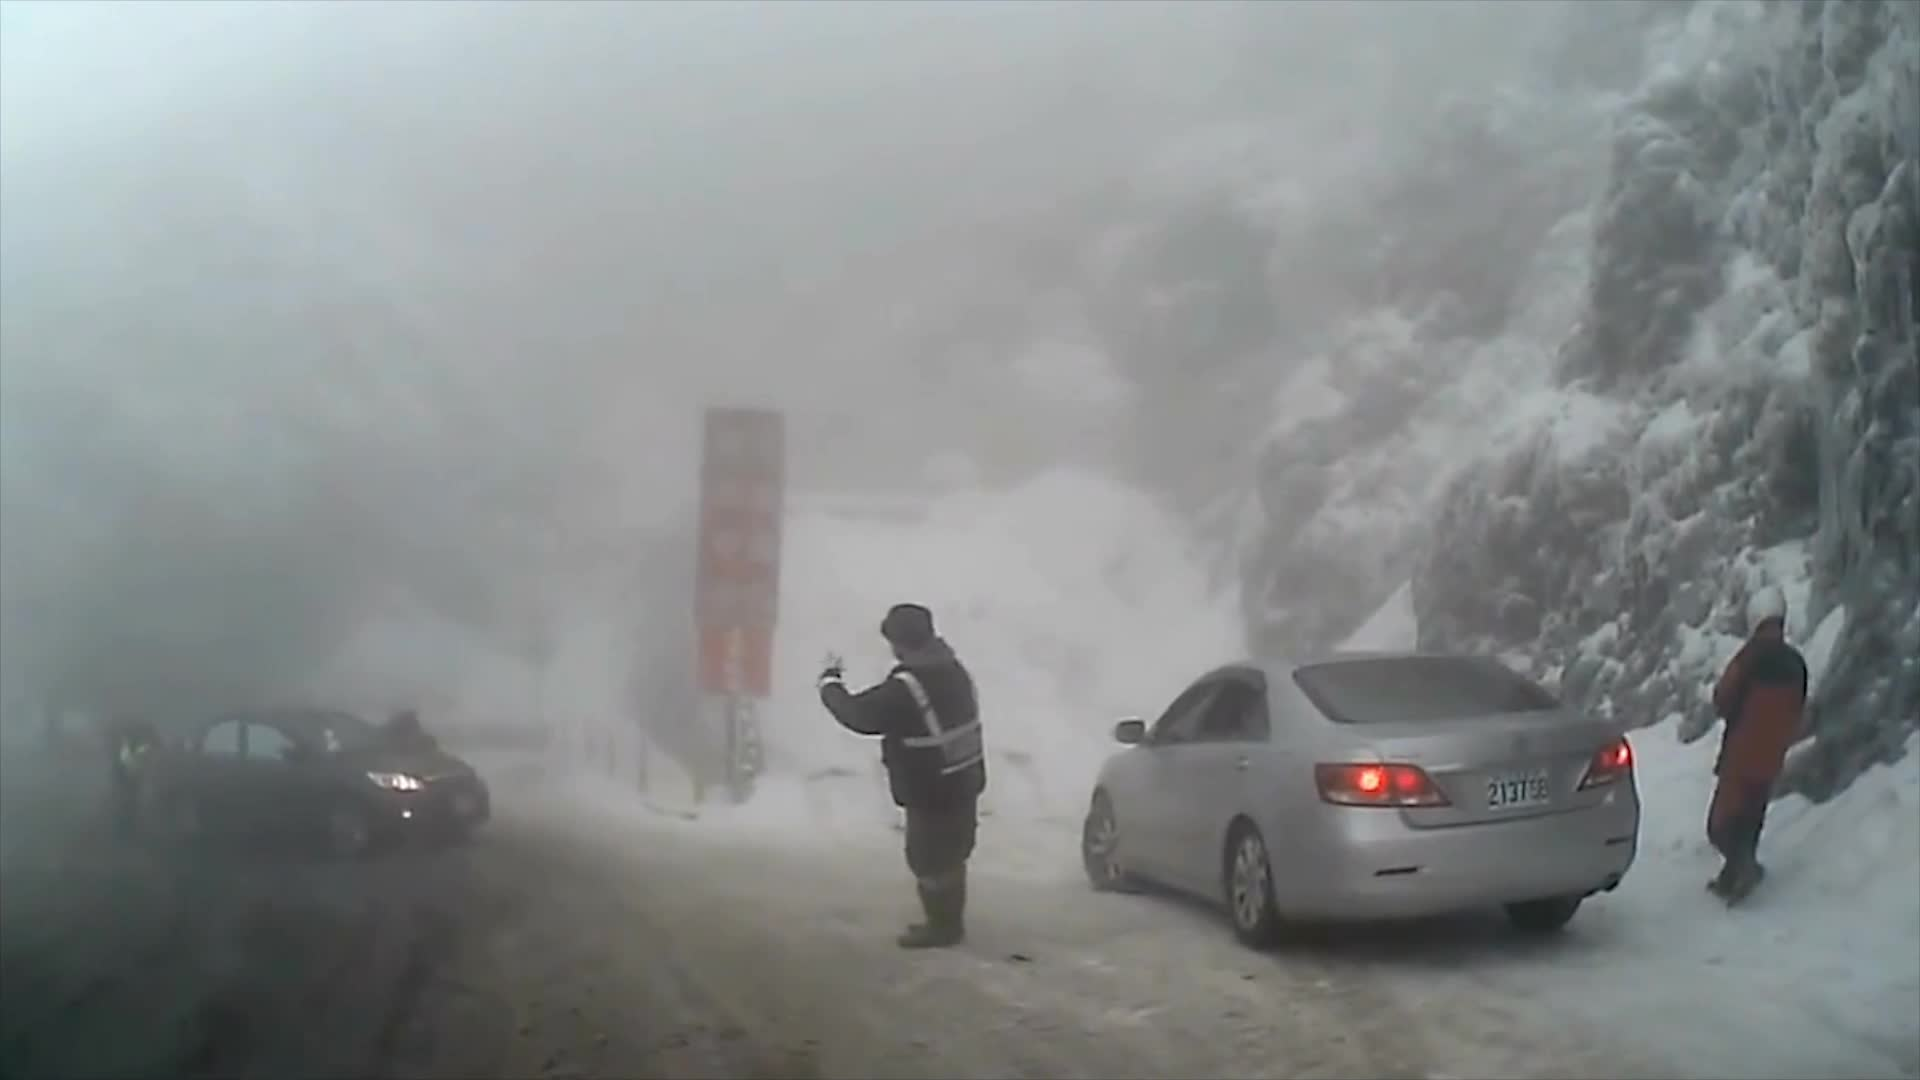pedestrian: (818, 599, 995, 945), (1705, 585, 1815, 906)
vehicle: (1080, 652, 1642, 951), (147, 707, 492, 867)
